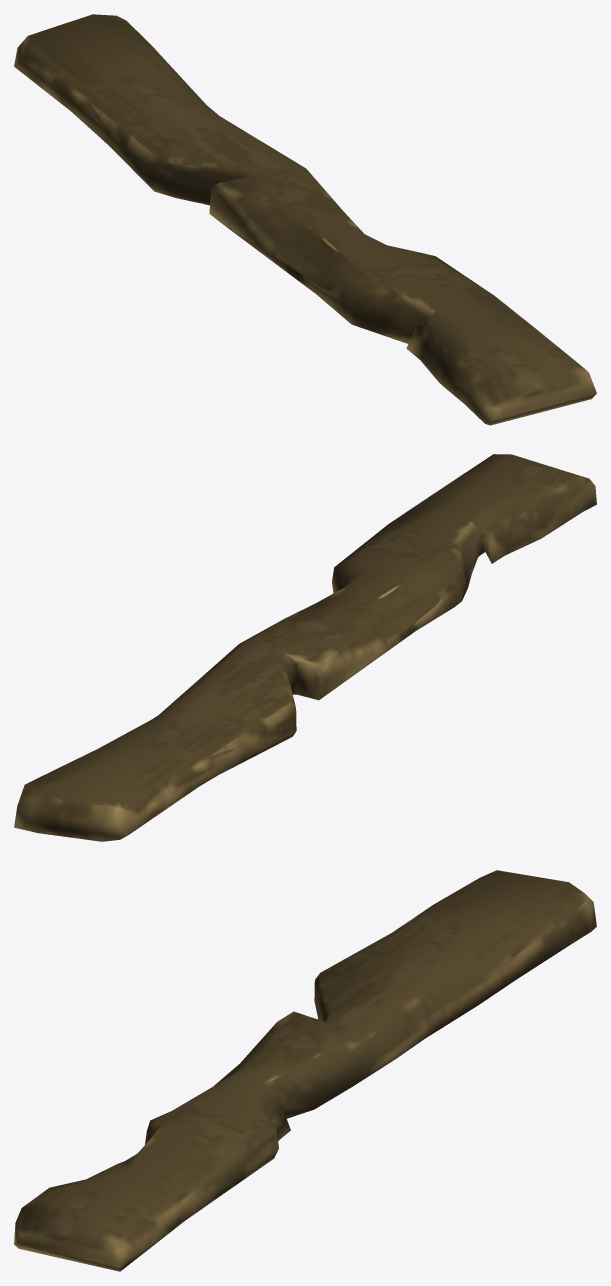
Rendered from board_04.fbx.
3 views of the same model, one above another, from view 1: azimuth 30°, elevation 25°; view 2: azimuth 150°, elevation 25°; view 3: azimuth 330°, elevation 25° (orthographic).
Visible parts, largest first — view 1: Cylinder.007; view 2: Cylinder.007; view 3: Cylinder.007.
Boxes of the visible parts, <box> form: Cylinder.007: <box>14,14,596,425</box>; Cylinder.007: <box>14,454,596,841</box>; Cylinder.007: <box>14,870,596,1271</box>.
Bounding box in the file's own units: 88.99 × 32.15 × 582.
